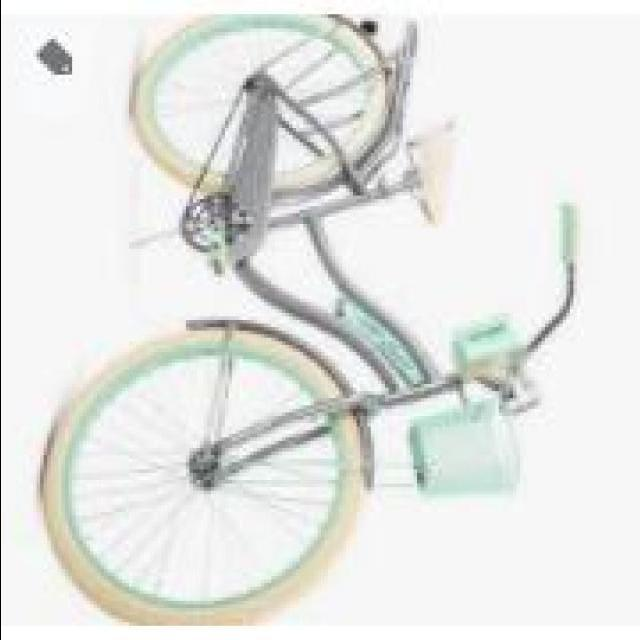bicycle: (50, 23, 584, 624)
